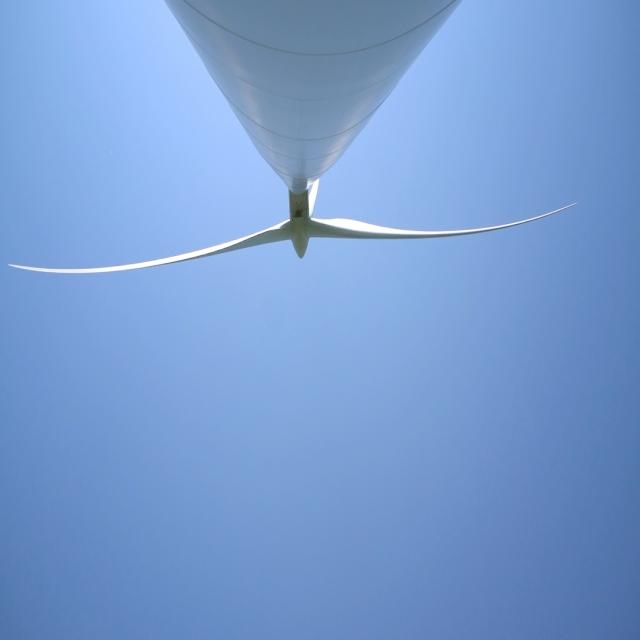blade 1: (310, 190, 323, 213)
blade 2: (14, 208, 268, 282)
blade 3: (334, 186, 584, 252)
